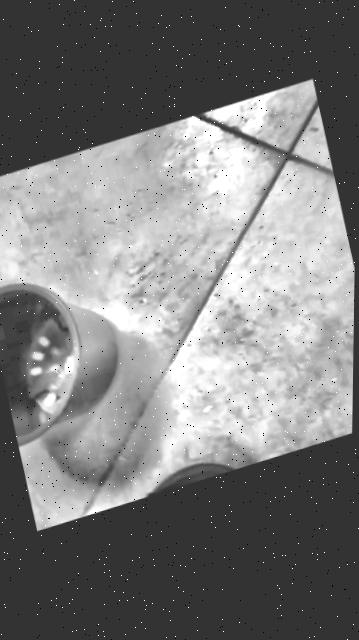pot: (0, 255, 134, 449)
